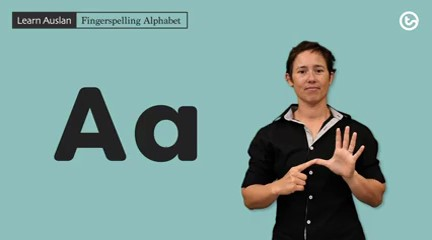A: (282, 124, 368, 196)
